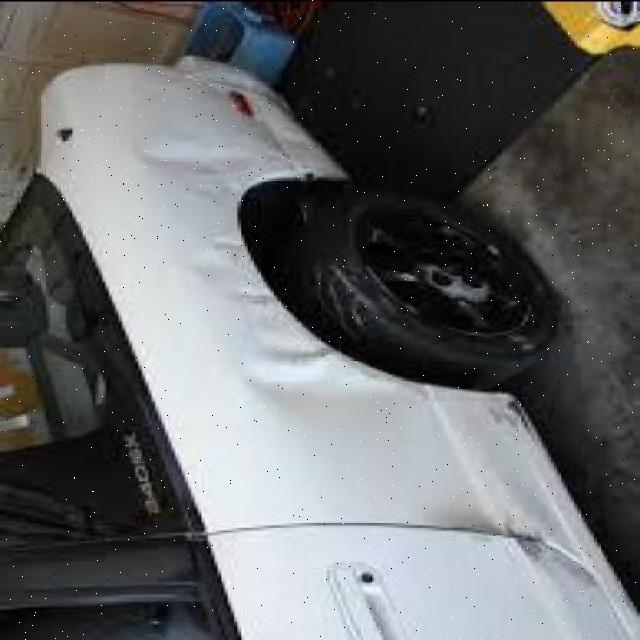damage: (182, 226, 408, 425), (131, 65, 333, 205), (409, 484, 599, 596), (470, 387, 531, 429)
